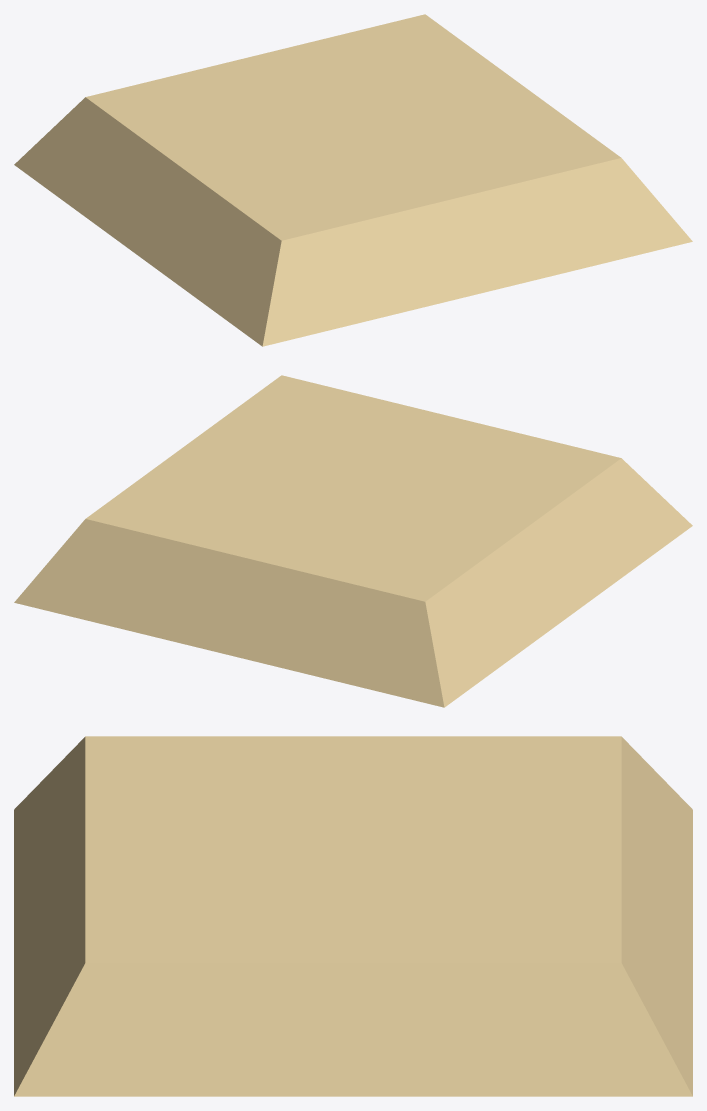
The picture shows the model from 3 angles, top to bottom: view 1: azimuth 30°, elevation 25°; view 2: azimuth 150°, elevation 25°; view 3: azimuth 270°, elevation 25°; orthographic projection. The views are drawn at different scales.
Visible parts, largest first — view 1: Ob12; view 2: Ob12; view 3: Ob12.
Boxes of the visible parts, <box> form: Ob12: <box>14,14,692,346</box>; Ob12: <box>14,375,692,707</box>; Ob12: <box>14,736,692,1096</box>.
Size of the model in its own units: 141 by 23.76 by 141.
